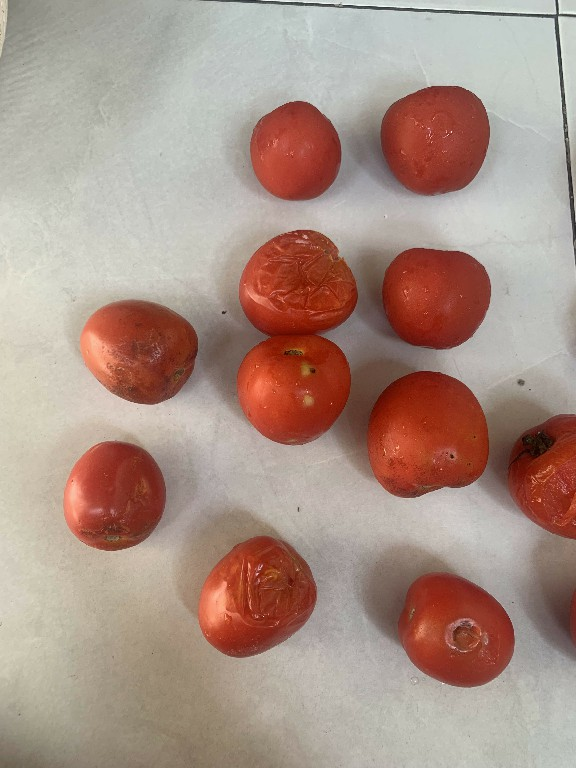NG: (189, 528, 325, 666), (361, 369, 494, 506), (393, 566, 519, 697), (233, 336, 362, 459), (76, 288, 204, 411), (234, 226, 360, 336), (58, 434, 168, 558), (505, 407, 576, 544)
OK: (375, 78, 501, 200), (377, 241, 498, 353), (242, 92, 352, 203)
